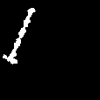half_double_crochet: (3, 8, 34, 63)
